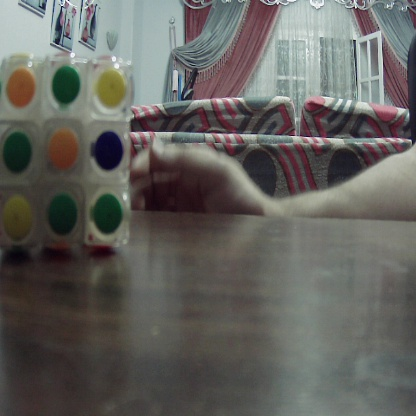Rubix Cube: (2, 54, 128, 251)
